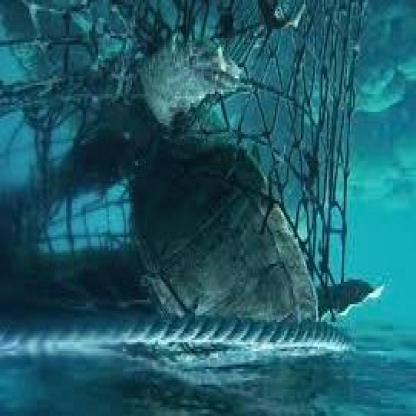net: (2, 2, 358, 356)
